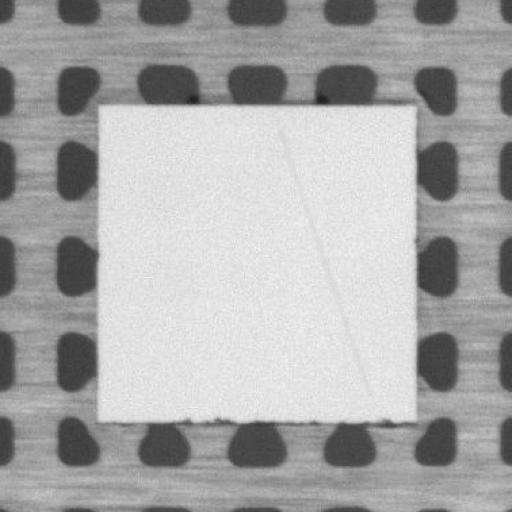DIE_CRACK: (278, 130, 368, 394)
